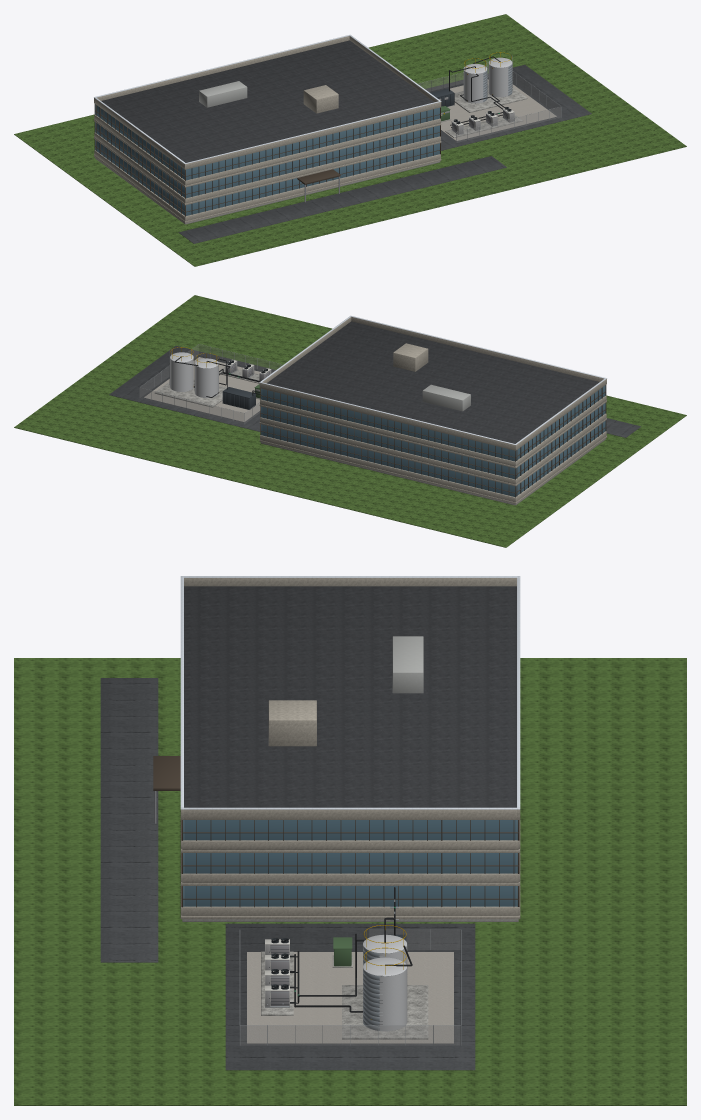
File: retrofit_plant.glb
The picture shows the model from 3 angles, top to bottom: view 1: azimuth 30°, elevation 25°; view 2: azimuth 150°, elevation 25°; view 3: azimuth 270°, elevation 25°; orthographic projection. The views are drawn at different scales.
Visible parts, largest first — view 1: Office_Building, Ground, Compound_Plinths, Compound_Fence, Thermal_Stores; view 2: Office_Building, Ground, Compound_Fence, Compound_Plinths, Thermal_Stores, Pump_Room; view 3: Ground, Office_Building, Compound_Plinths, Compound_Fence, Thermal_Stores, Pipework.
Part boxes in pixels (bbox=[...]): Office_Building: bbox=[94, 34, 441, 224]; Ground: bbox=[14, 14, 686, 266]; Compound_Plinths: bbox=[441, 79, 556, 140]; Compound_Fence: bbox=[418, 66, 561, 142]; Thermal_Stores: bbox=[463, 52, 513, 103]; Office_Building: bbox=[259, 315, 606, 505]; Ground: bbox=[14, 295, 686, 547]; Compound_Fence: bbox=[139, 344, 282, 423]; Compound_Plinths: bbox=[144, 357, 260, 421]; Thermal_Stores: bbox=[169, 347, 218, 397]; Pump_Room: bbox=[222, 387, 255, 409]; Ground: bbox=[14, 658, 686, 1105]; Office_Building: bbox=[153, 576, 520, 921]; Compound_Plinths: bbox=[247, 951, 453, 1043]; Compound_Fence: bbox=[239, 929, 461, 1045]; Thermal_Stores: bbox=[363, 925, 407, 1031]; Pipework: bbox=[290, 887, 412, 1012].
Size of the model in its own units: 110 by 15.1 by 70.
37 materials, 31 textured.
